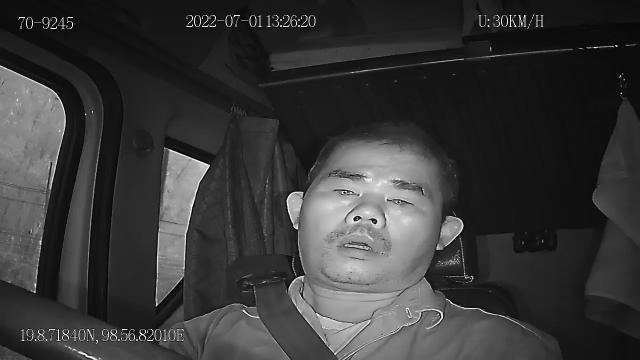SafeDriving: (321, 177, 366, 206), (377, 186, 421, 215)
Seatbelt: (252, 283, 340, 360)
